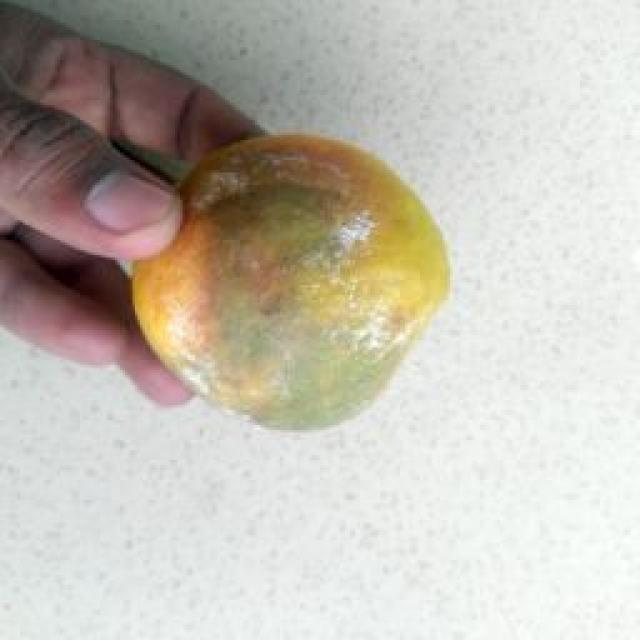Bad_Orange: (132, 135, 448, 428)
